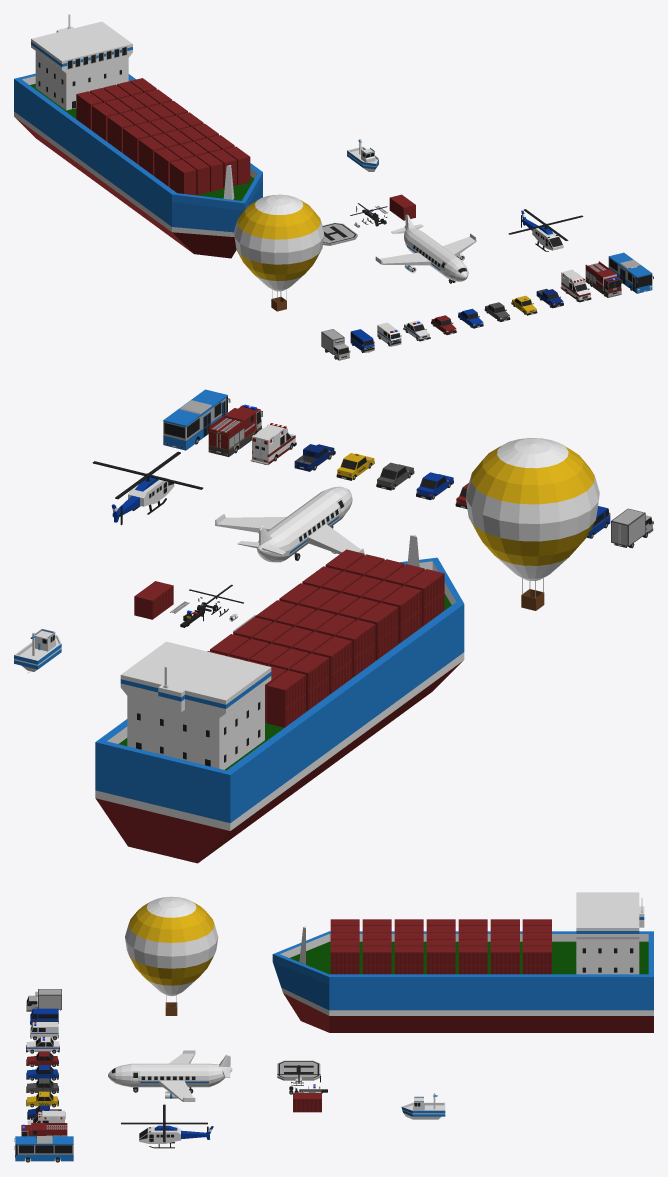
Rendered from Low poly transport FINAL.fbx.
3 renders of one model, top to bottom at view 1: azimuth 30°, elevation 25°; view 2: azimuth 150°, elevation 25°; view 3: azimuth 270°, elevation 25°, orthographic. The views are drawn at different scales.
Visible parts, largest first — view 1: Dry_cargo_ship, Container_red, Balloon, Plane, Bus, Firefighters_car, Ambulance, Helicopter, Truck, Landing_pad, Fishing_boat, Container_red.001; view 2: Dry_cargo_ship, Container_red, Balloon, Plane, Bus, Firefighters_car, Ambulance, Fishing_boat, Helicopter, Truck, Container_red.001, Pickup (+4 smaller); view 3: Dry_cargo_ship, Container_red, Balloon, Plane, Bus, Helicopter, Landing_pad, Fishing_boat, Truck, Firefighters_car, Container_red.001, Police_van (+3 smaller).
Part boxes in pixels (x1,y1,x2,y2): Dry_cargo_ship: (14, 14, 262, 258); Container_red: (76, 78, 250, 195); Balloon: (234, 194, 324, 291); Plane: (375, 214, 476, 281); Bus: (608, 252, 652, 293); Firefighters_car: (585, 261, 622, 297); Ambulance: (560, 269, 591, 302); Helicopter: (521, 210, 563, 251); Truck: (321, 329, 350, 360); Landing_pad: (322, 222, 357, 245); Fishing_boat: (347, 139, 378, 171); Container_red.001: (389, 194, 415, 220); Dry_cargo_ship: (95, 535, 464, 863); Container_red: (207, 549, 444, 727); Balloon: (466, 438, 599, 580); Plane: (215, 486, 364, 562); Bus: (163, 389, 227, 450); Firefighters_car: (208, 404, 262, 456); Ambulance: (250, 423, 296, 465); Fishing_boat: (14, 628, 61, 673); Helicopter: (111, 474, 174, 522); Truck: (611, 508, 653, 547); Container_red.001: (134, 581, 173, 619); Pickup: (294, 444, 335, 471); Dry_cargo_ship: (272, 892, 653, 1032); Container_red: (330, 919, 551, 974); Balloon: (125, 896, 218, 996); Plane: (108, 1050, 232, 1101); Bus: (15, 1136, 73, 1161); Helicopter: (139, 1125, 213, 1148); Landing_pad: (277, 1060, 320, 1080); Fishing_boat: (401, 1093, 445, 1119); Truck: (26, 989, 61, 1011); Firefighters_car: (21, 1123, 67, 1136); Container_red.001: (293, 1093, 321, 1112); Police_van: (30, 1021, 58, 1038).
Bounding box in the file's own units: 6333 × 2179 × 10062.
